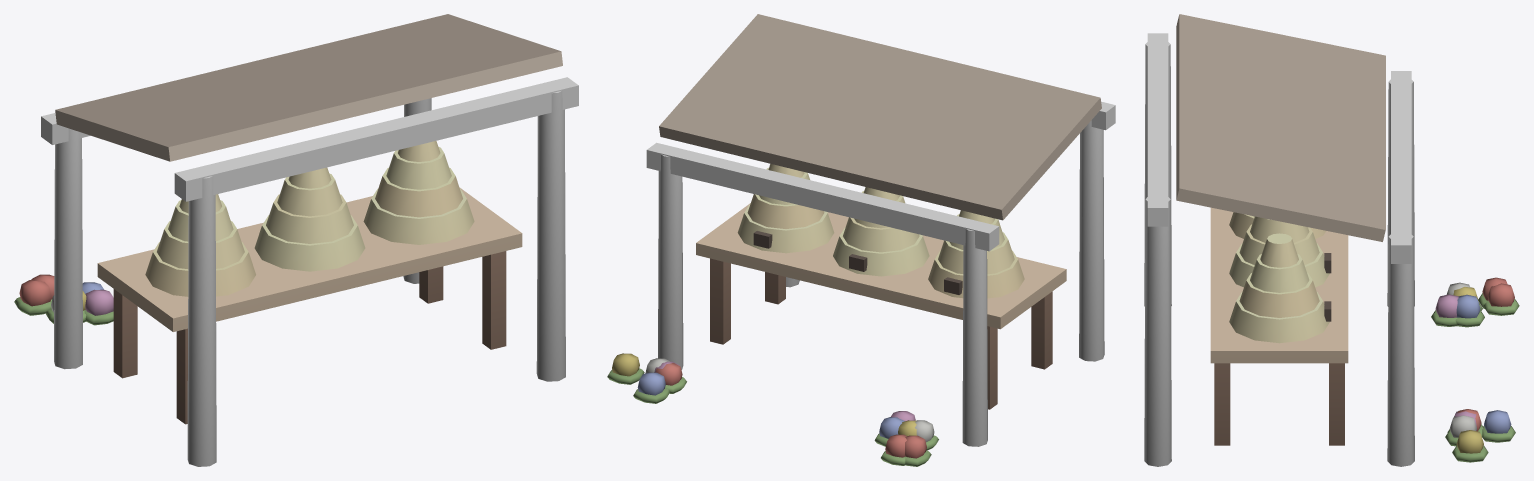
The model's file is hw_apiary.glb.
3 renders of one model, left to right at view 1: azimuth 30°, elevation 25°; view 2: azimuth 150°, elevation 25°; view 3: azimuth 270°, elevation 25°, orthographic. The views are drawn at different scales.
Parts seen in each view (by area): view 1: Building; view 2: Building; view 3: Building.
Boxes of the visible parts, box(x1,y1,x2,y2) form: Building: box(14, 14, 578, 466); Building: box(607, 14, 1115, 466); Building: box(1144, 14, 1519, 466).
Size of the model in its own units: 1.84 by 1.36 by 1.64.
